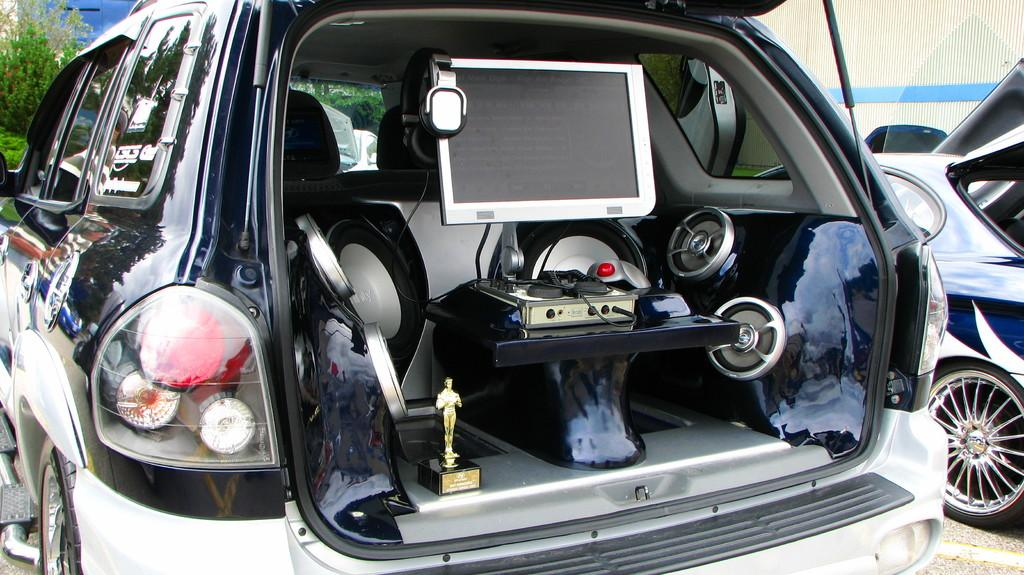Computer-monitor: (427, 57, 657, 226)
